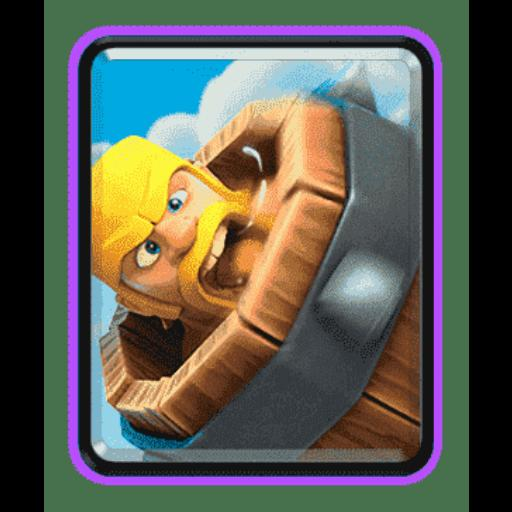barbarian-barrel: (91, 54, 417, 460)
